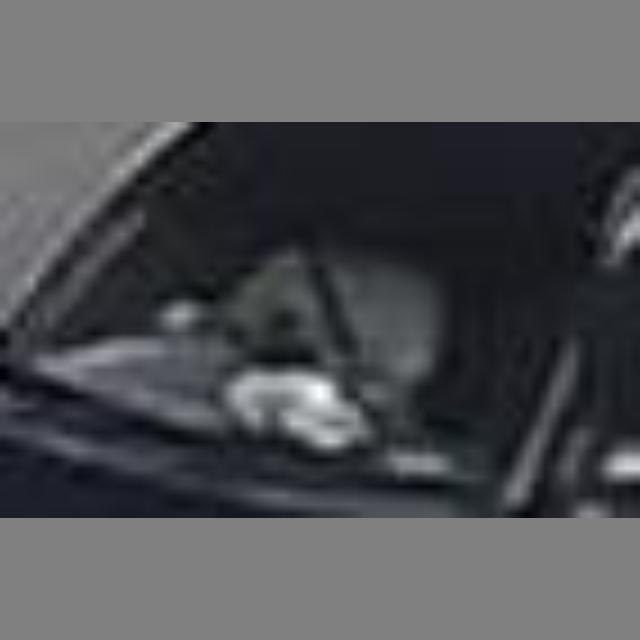pakai: (207, 212, 424, 401)
